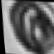correct: (4, 0, 54, 54)
